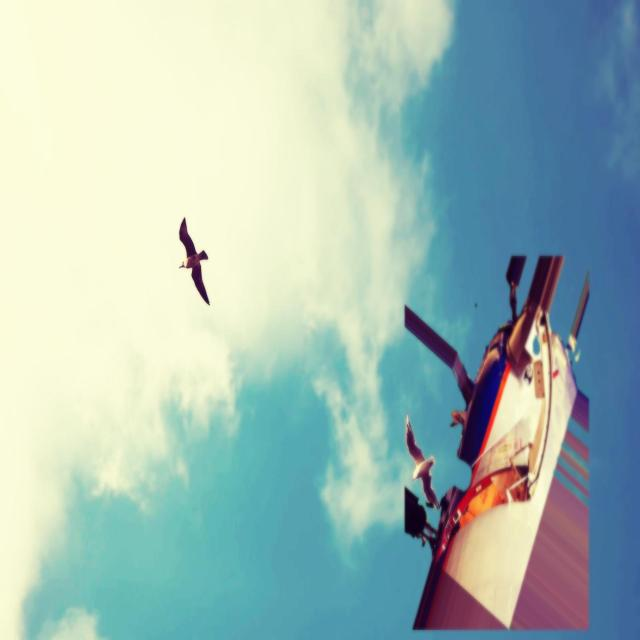airplane: (403, 252, 591, 630)
